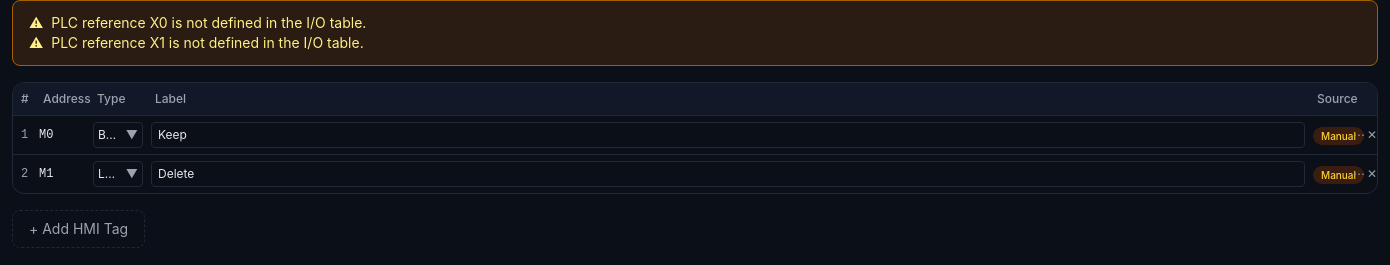
Test: HMITagTable › deletes a row
This screenshot has width=1390, height=265.
Click the button with test id "hmi-delete-1".
click(1372, 174)  # box [1367,162,1377,186]
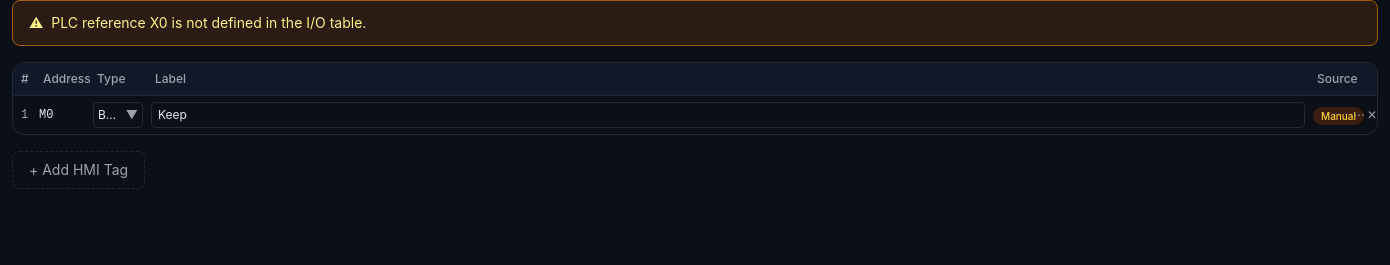
Check: the text "M0" is shown, box [35,96,89,134]
Check: the text "M1" is gone
